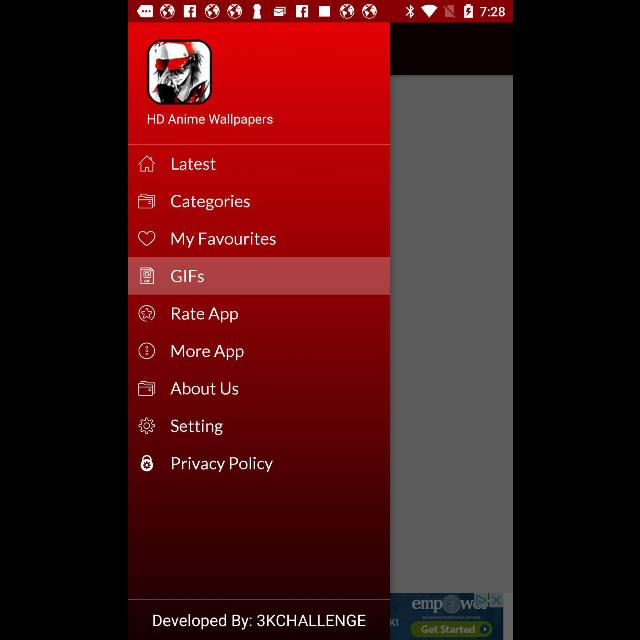icon: (137, 381, 155, 397), (138, 342, 154, 360), (137, 230, 155, 246), (137, 156, 155, 172), (138, 418, 154, 434), (138, 306, 154, 322), (139, 267, 153, 285), (138, 194, 154, 208), (140, 454, 152, 472)
image: (146, 40, 212, 104)
panel: (128, 24, 388, 640)
text: (152, 614, 364, 630), (146, 113, 272, 127), (170, 232, 276, 248), (170, 456, 272, 472), (170, 195, 250, 211), (170, 344, 243, 360), (170, 307, 238, 323), (170, 382, 238, 396), (170, 418, 222, 436), (170, 157, 216, 170), (170, 269, 203, 283)
uppertaskbar: (128, 1, 512, 23)
